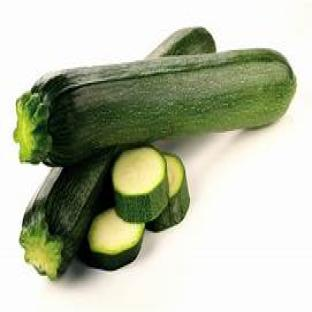Zucchini: (14, 49, 295, 165), (20, 149, 116, 279), (14, 94, 75, 165), (112, 147, 168, 222), (80, 209, 145, 270), (147, 154, 189, 230), (148, 28, 216, 58)
